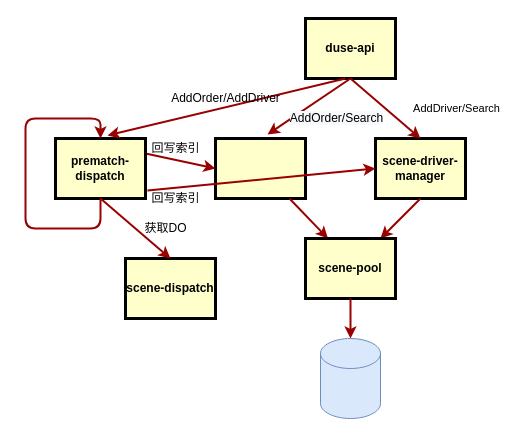
This 517x436 diagram has some shape labels left out. The centre of each missing label's shape, as x and y in pixels:
"Redis" goes at [350,378].
"scene-order-manager" goes at [260,168].
